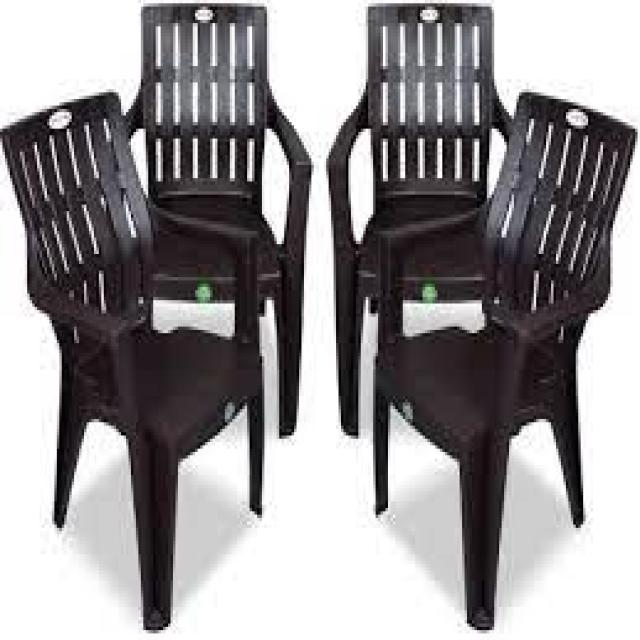chair: (339, 85, 640, 634), (0, 81, 272, 640), (80, 0, 323, 453), (319, 0, 543, 440)
